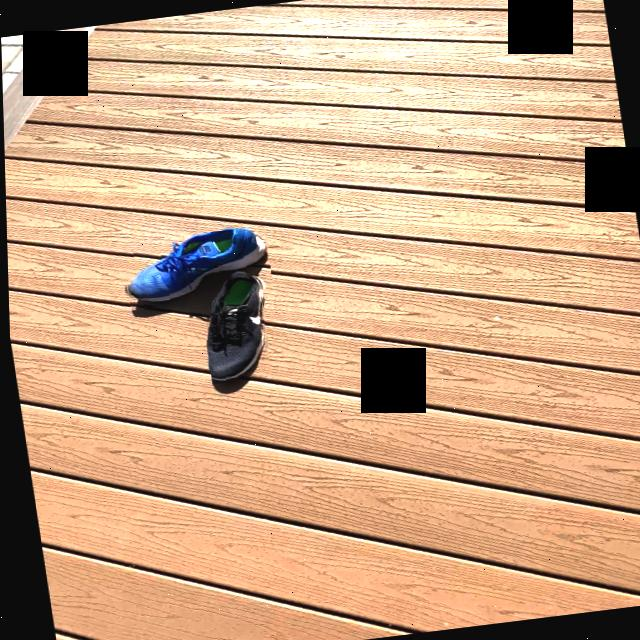shoe: (124, 228, 267, 306), (205, 281, 262, 383)
